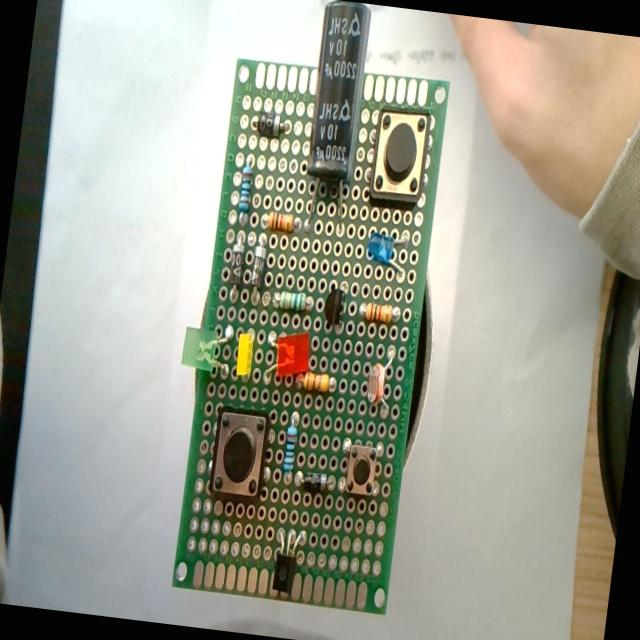Electrolytic capacitor: (296, 0, 376, 235)
cds: (361, 350, 394, 410)
diode: (253, 110, 290, 137), (249, 240, 267, 290), (227, 242, 245, 286), (296, 469, 327, 494)
led: (364, 228, 411, 284), (272, 328, 312, 382), (178, 324, 220, 372), (234, 330, 255, 378)
resistor: (281, 416, 299, 473), (236, 162, 254, 215), (274, 290, 313, 312), (299, 370, 333, 394), (359, 302, 395, 324), (266, 210, 295, 233)
switch: (368, 105, 432, 204), (207, 406, 271, 503), (343, 442, 380, 498)
transistor: (268, 526, 303, 598), (322, 285, 347, 328)
